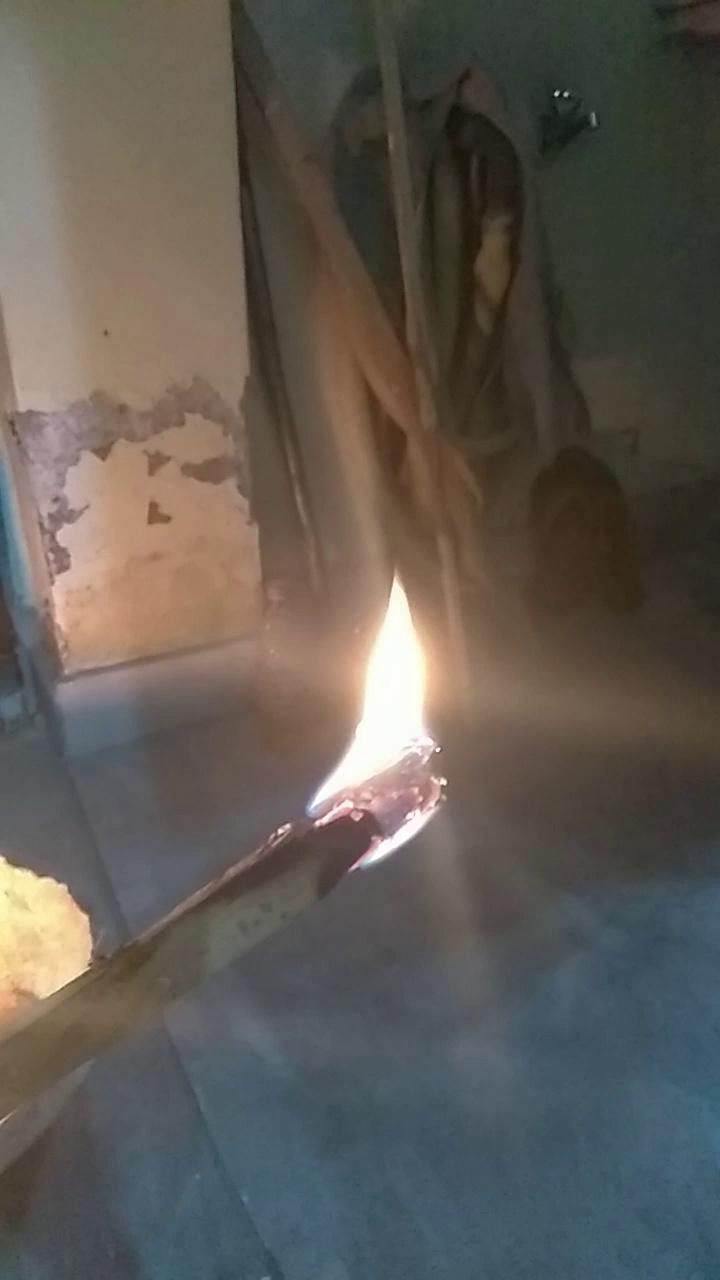fire: (305, 573, 448, 860)
